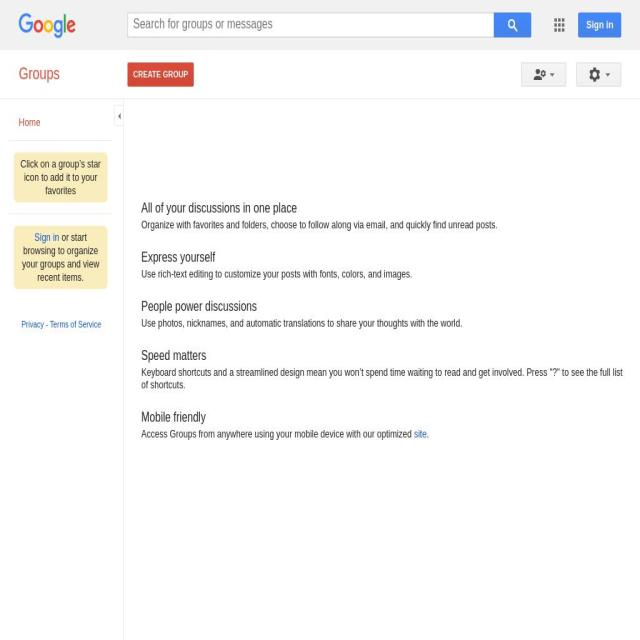button: (8, 112, 112, 132), (128, 62, 194, 86), (578, 12, 622, 38), (576, 62, 622, 86), (522, 62, 566, 86), (494, 12, 531, 38)
field: (133, 16, 489, 32)
heading: (142, 198, 626, 218), (142, 248, 626, 268), (142, 296, 626, 316), (142, 346, 626, 366), (142, 408, 626, 428), (19, 64, 60, 83)
image: (550, 12, 569, 38), (503, 12, 522, 38), (605, 73, 610, 77), (550, 73, 554, 77), (118, 113, 120, 120)
link: (49, 319, 102, 329), (34, 231, 60, 243), (22, 319, 44, 329), (413, 428, 428, 440)
text: (142, 366, 626, 391), (142, 218, 626, 231), (142, 268, 626, 280), (142, 317, 626, 329), (13, 152, 108, 202), (22, 231, 99, 283), (141, 428, 414, 440), (133, 69, 188, 79), (18, 116, 41, 128), (46, 319, 50, 329), (426, 428, 429, 440)
